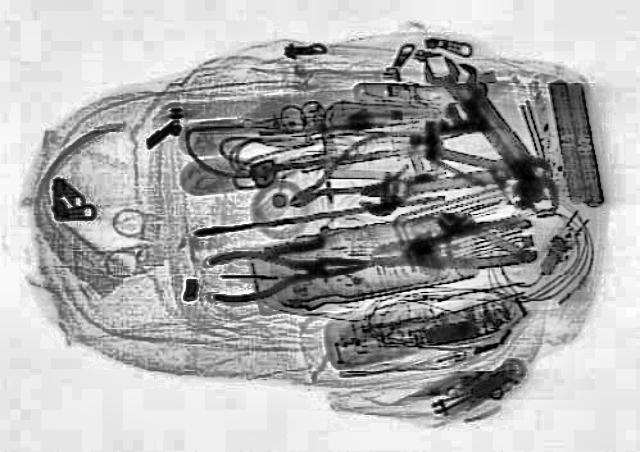Pliers: (266, 119, 444, 223), (362, 213, 540, 281), (200, 237, 374, 305)
Wrench: (410, 49, 534, 183), (426, 58, 544, 172), (352, 159, 540, 217)
